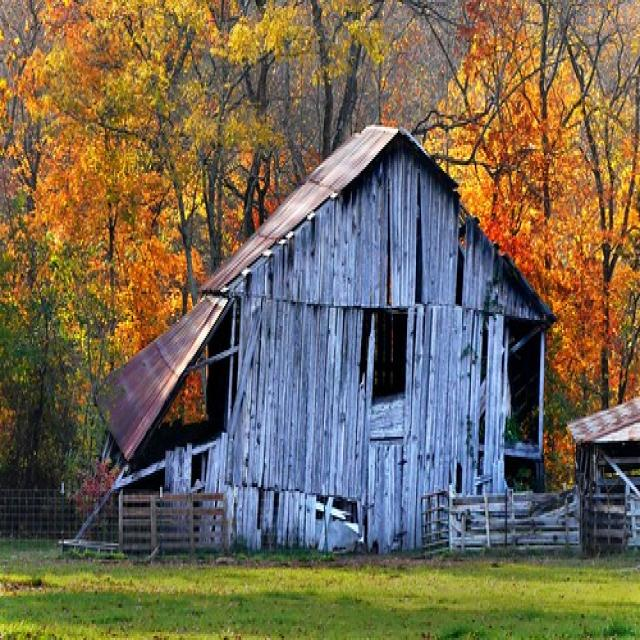Normal_building: (62, 108, 555, 564)
